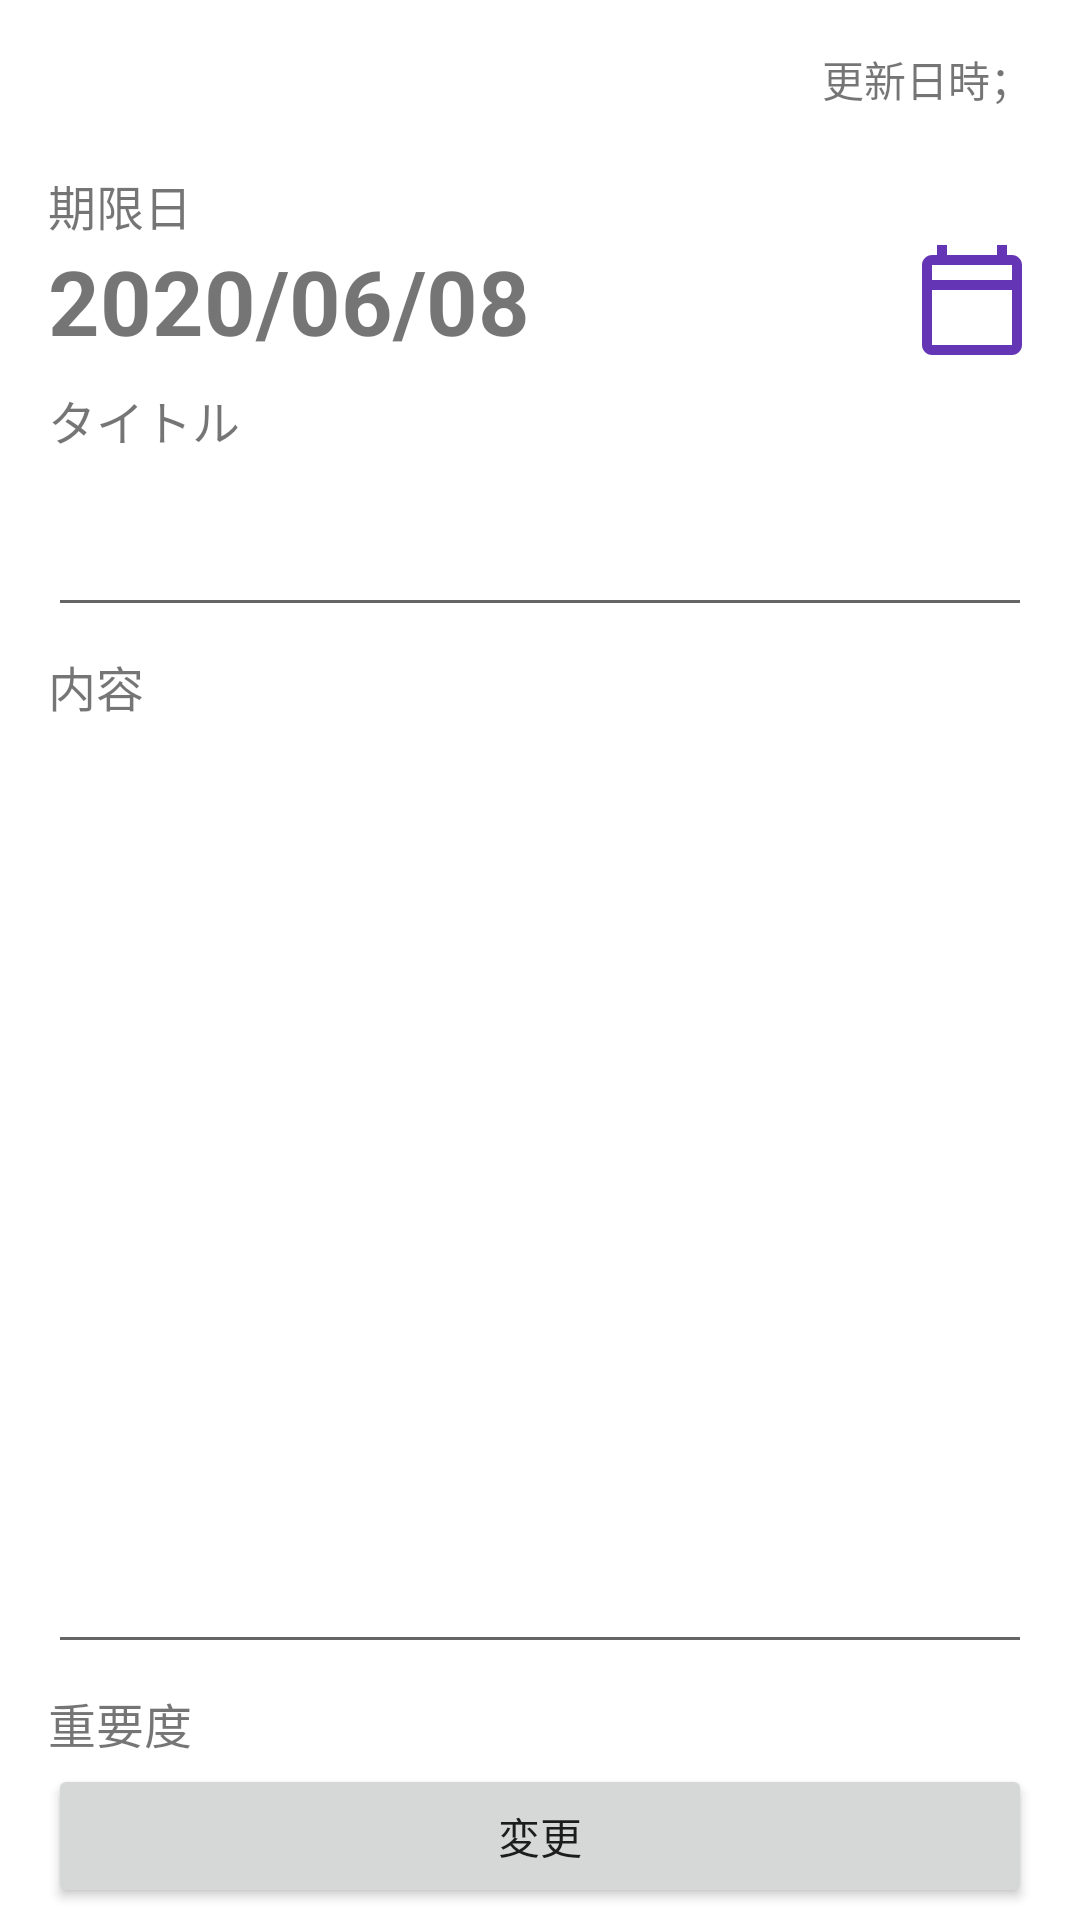

Locate icon controls on the screen. Image size 1080px×1920px, boxes as (x1, y1, x2, y2).
calendar today: (922, 245, 1022, 355)
